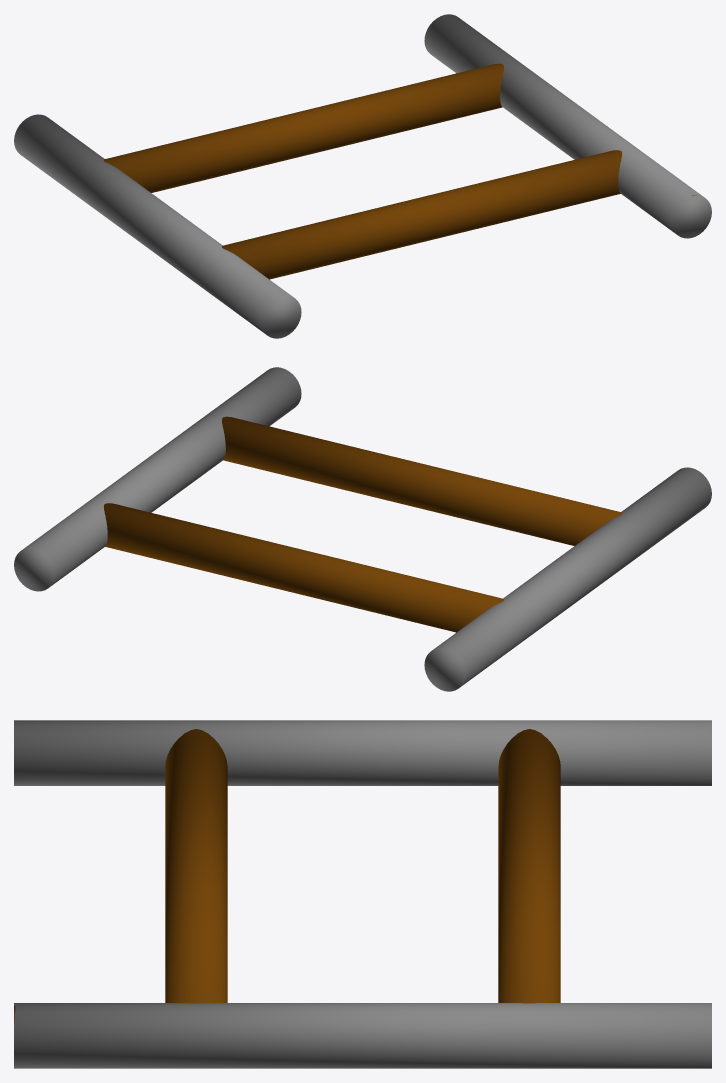
Rendered from rail2.obj.
3 renders of one model, top to bottom at view 1: azimuth 30°, elevation 25°; view 2: azimuth 150°, elevation 25°; view 3: azimuth 270°, elevation 25°, orthographic. The views are drawn at different scales.
Parts seen in each view (by area): view 1: 円柱.002; view 2: 円柱.002; view 3: 円柱.002.
Boxes of the visible parts, x1,y1,x2,y2 form: 円柱.002: (14, 14, 711, 338); 円柱.002: (14, 367, 711, 691); 円柱.002: (14, 720, 711, 1068).
Bounding box in the file's own units: 1.83 × 0.1634 × 1.74.
1 material, 1 textured.
